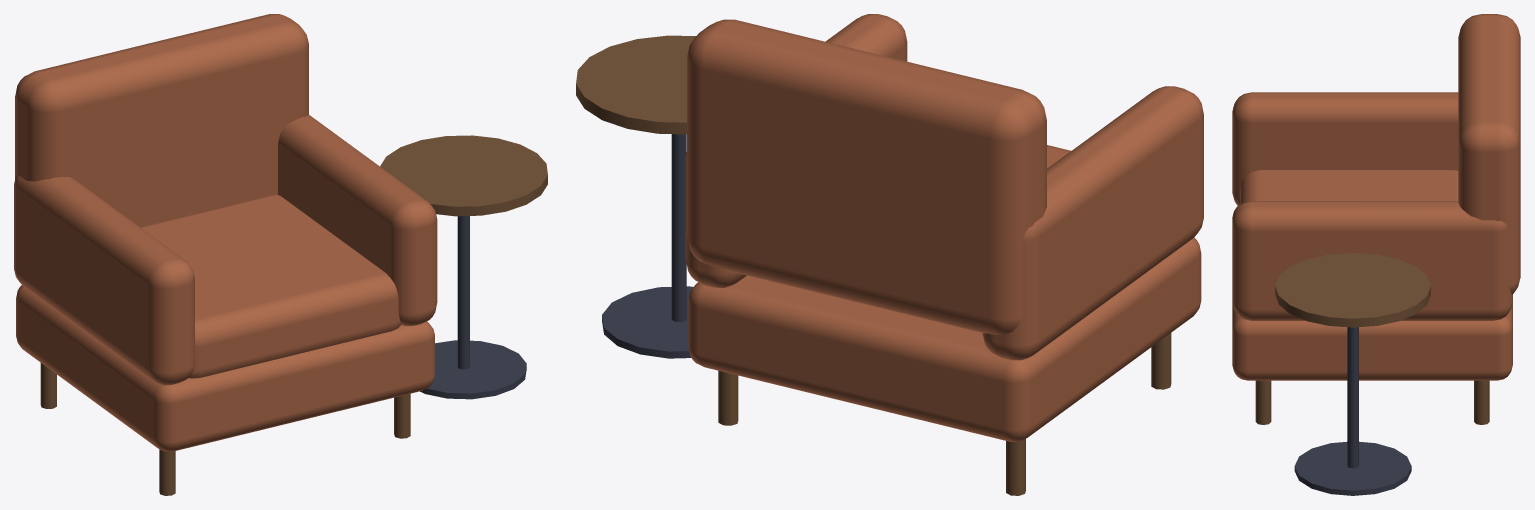
Rendered from hsp-006.glb.
3 renders of one model, left to right at view 1: azimuth 30°, elevation 25°; view 2: azimuth 150°, elevation 25°; view 3: azimuth 270°, elevation 25°, orthographic. The views are drawn at different scales.
Visible parts, largest first — view 1: upholstery_warm, walnut, dark_steel; view 2: upholstery_warm, walnut, dark_steel; view 3: upholstery_warm, walnut, dark_steel.
Part boxes in pixels (x1,y1,x2,y2): upholstery_warm: (14, 14, 437, 451); walnut: (40, 135, 547, 495); dark_steel: (420, 216, 526, 399); upholstery_warm: (685, 14, 1203, 441); walnut: (576, 35, 1171, 495); dark_steel: (602, 134, 692, 358); upholstery_warm: (1232, 14, 1520, 380); walnut: (1255, 253, 1489, 424); dark_steel: (1294, 327, 1411, 495).
Bounding box in the file's own units: 1.21 × 0.85 × 0.74.
